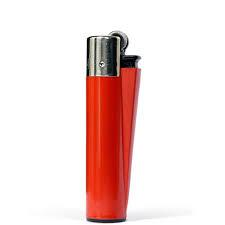lighter: (86, 28, 141, 223)
